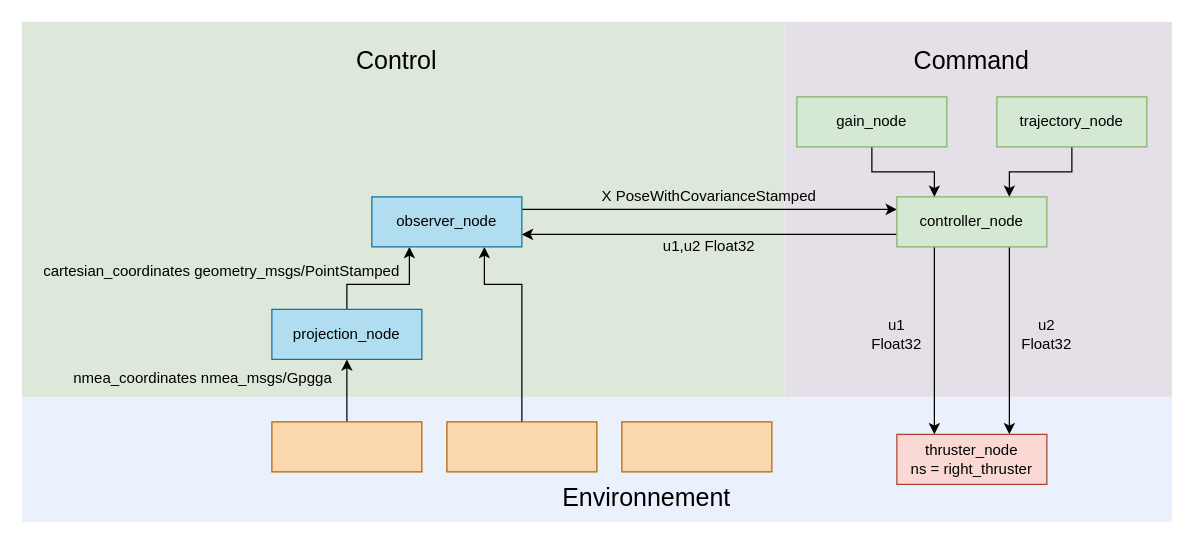
Some shapes in this 1193 by 543 pixel diagram are drawn without their labels. The centre of each missing label's shape, as x and y in pixels:
compass_node: (521,446)
encoder_node: (696,446)
gnss_node: (346,446)
